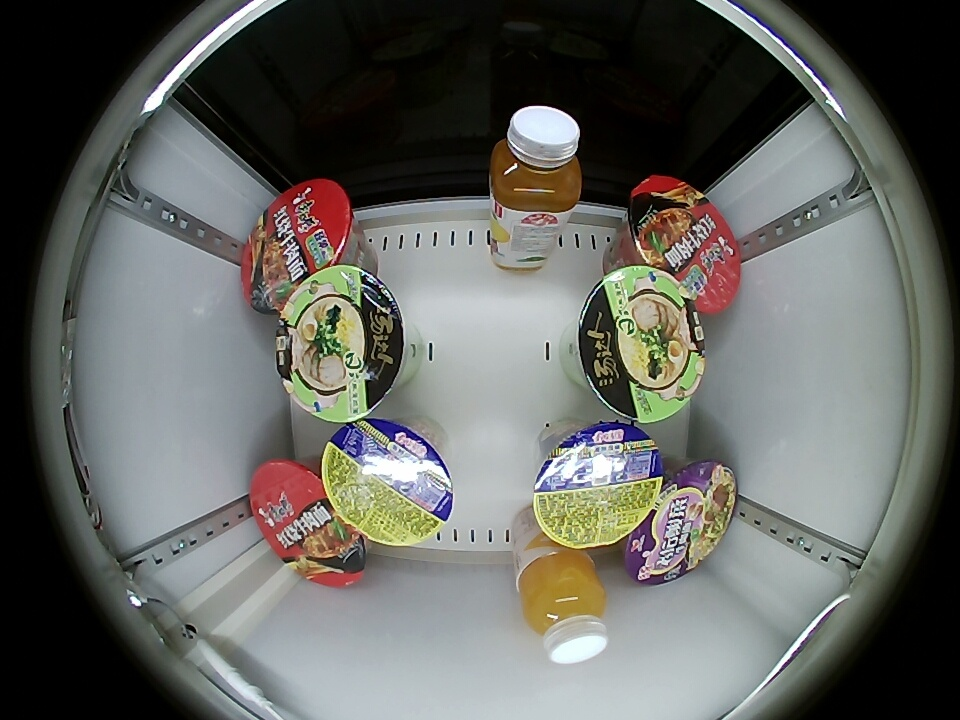chapai: (489, 106, 584, 214)
heweidao: (321, 417, 453, 547), (532, 422, 665, 551)
hongshaoniurou: (624, 175, 741, 314), (240, 179, 353, 315), (249, 459, 366, 588)
laotansuancai: (624, 459, 737, 585)
tangdaren: (573, 265, 707, 424), (275, 263, 407, 423)
weic: (517, 553, 609, 663)
